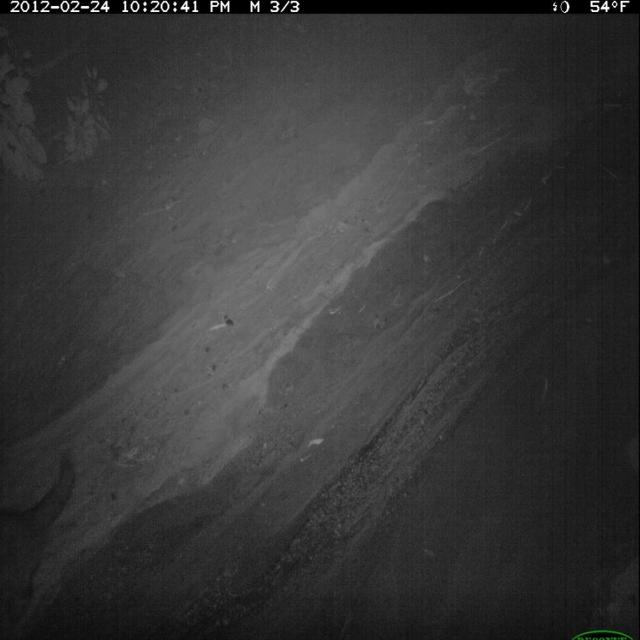raccoon: (4, 444, 77, 640)
